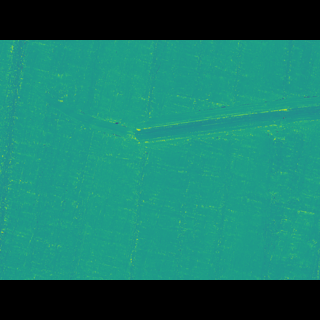Loch: (29, 104, 319, 155)
